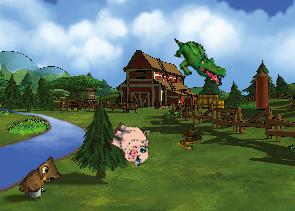crocodile: (165, 36, 232, 87)
owl: (16, 152, 67, 206)
pig: (103, 117, 157, 169)
